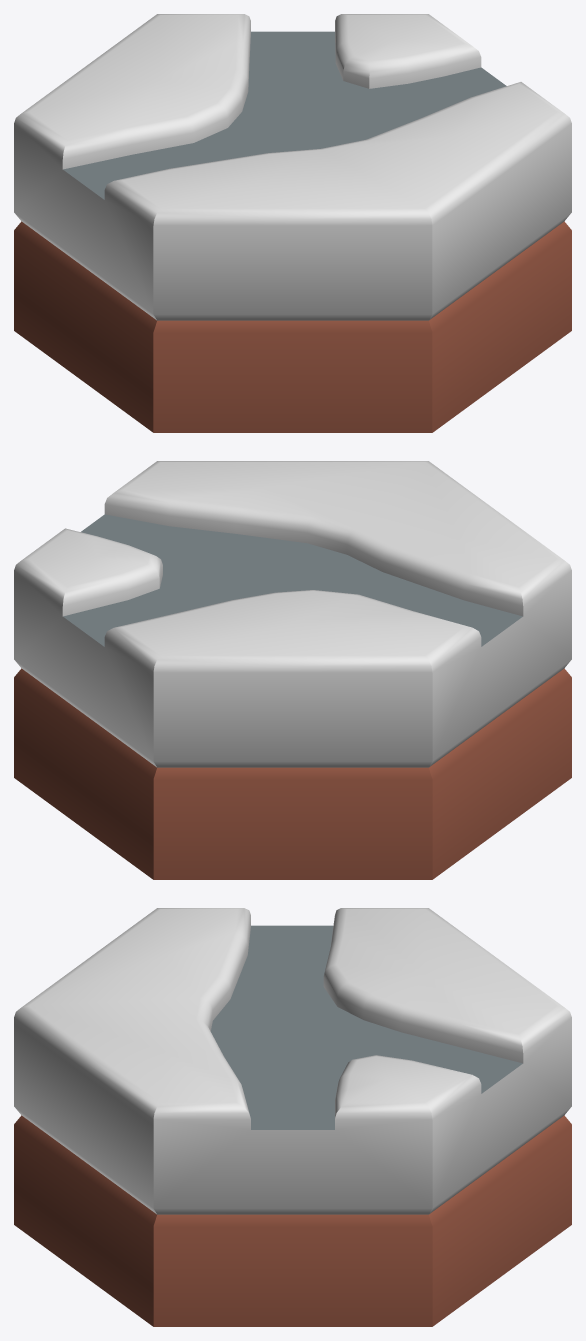
The model's file is hex_snow_roadF_detail.gltf.glb.
The picture shows the model from 3 angles, top to bottom: view 1: azimuth 30°, elevation 25°; view 2: azimuth 150°, elevation 25°; view 3: azimuth 270°, elevation 25°; orthographic projection.
Parts seen in each view (by area): view 1: hex_snow_roadF_detail; view 2: hex_snow_roadF_detail; view 3: hex_snow_roadF_detail.
Part boxes in pixels (box(x1,y1,x2,y2)): hex_snow_roadF_detail: box(14, 14, 571, 432); hex_snow_roadF_detail: box(14, 461, 571, 879); hex_snow_roadF_detail: box(14, 908, 571, 1326).
Bounding box in the file's own units: 2 × 1 × 2.31.
